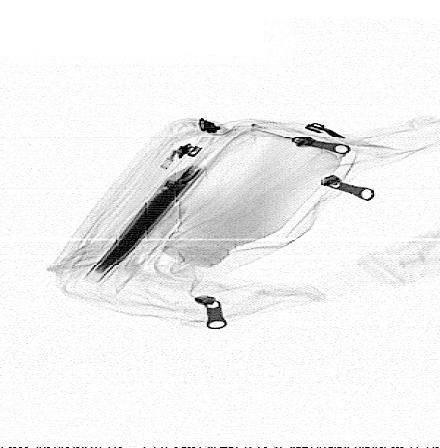Powerbank: (82, 165, 208, 281)
